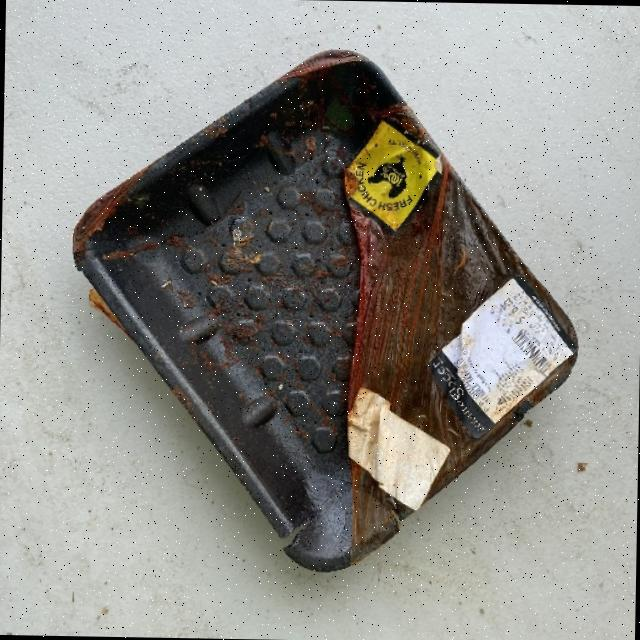styrofoam: (64, 42, 585, 576)
